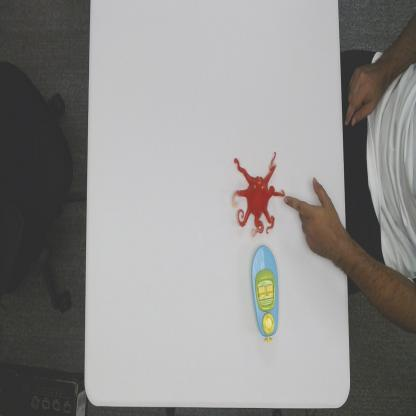Boat: (249, 244, 282, 346)
Hand: (285, 178, 341, 263)
Octopus: (230, 149, 287, 240)
